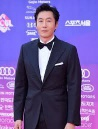male: (25, 4, 79, 56)
